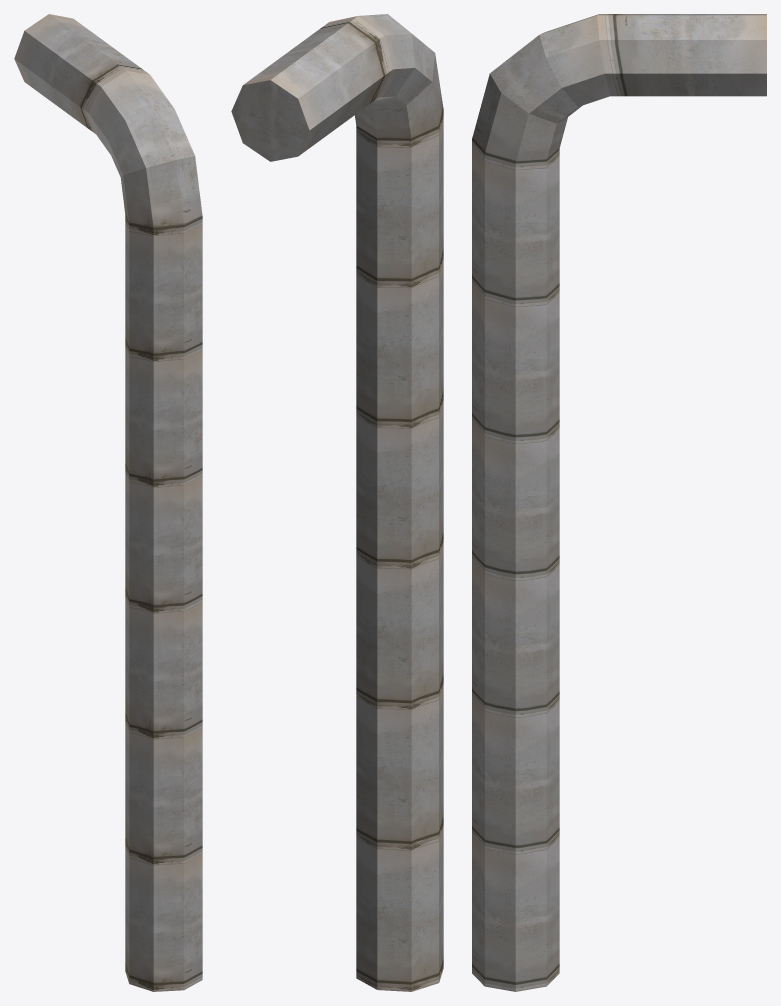
Rendered from laxrf_refinerypipe.obj.
3 views of the same model, side by side, from view 1: azimuth 30°, elevation 25°; view 2: azimuth 150°, elevation 25°; view 3: azimuth 270°, elevation 25° (orthographic). The views are drawn at different scales.
Visible parts, largest first — view 1: laxrf_refinerypipe; view 2: laxrf_refinerypipe; view 3: laxrf_refinerypipe.
Boxes of the visible parts, left/top/right/bottom form: laxrf_refinerypipe: left=14, top=14, right=202, bottom=991; laxrf_refinerypipe: left=231, top=14, right=443, bottom=991; laxrf_refinerypipe: left=472, top=14, right=766, bottom=991.
Bounding box in the file's own units: 0.8247 × 9.96 × 2.78.
